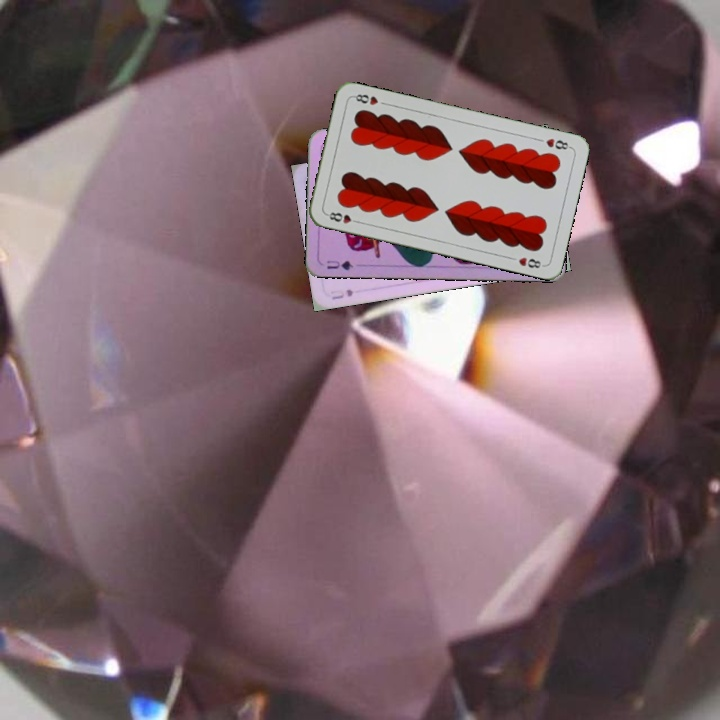GU: (323, 256, 355, 273)
H8: (322, 208, 363, 226), (542, 134, 574, 152)
SU: (327, 285, 355, 302)
